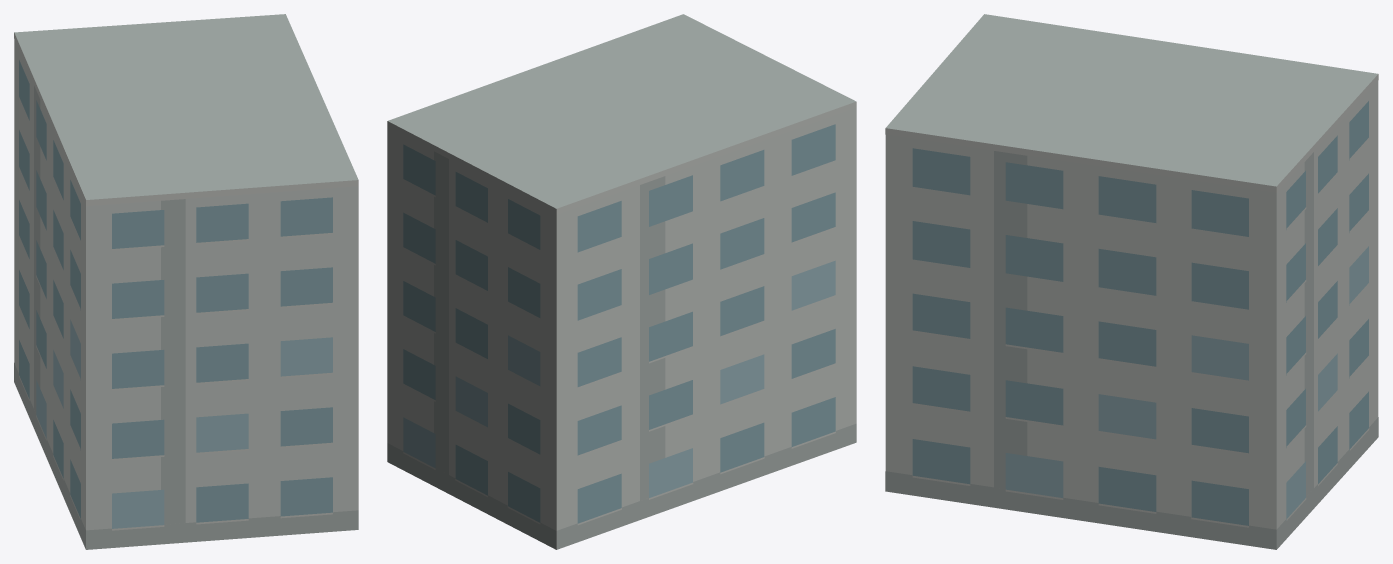
File: survey-upis-32893663.glb
3 renders of one model, left to right at view 1: azimuth 30°, elevation 25°; view 2: azimuth 150°, elevation 25°; view 3: azimuth 270°, elevation 25°, orthographic. The views are drawn at different scales.
Parts seen in each view (by area): view 1: survey-upis-32893663.tmp; view 2: survey-upis-32893663.tmp; view 3: survey-upis-32893663.tmp.
Part boxes in pixels (left/top/right/bottom): survey-upis-32893663.tmp: left=14, top=14, right=358, bottom=549; survey-upis-32893663.tmp: left=387, top=14, right=856, bottom=549; survey-upis-32893663.tmp: left=885, top=14, right=1378, bottom=549.
Bounding box in the file's own units: 13.88 × 13.62 × 16.76.
